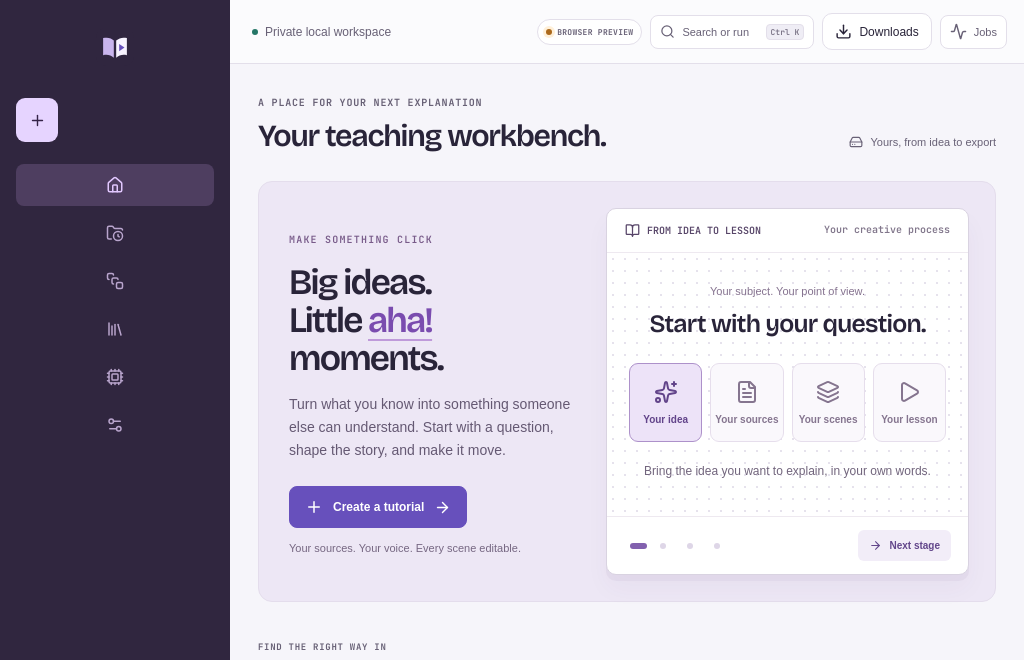
Test: keeps SDXL profile activation disabled for an activation-blocked receipt
Step 1. Click the button named "models & providers" → (115,377), box top-left (16, 356), bottom-right (214, 398)
(page scrolled)
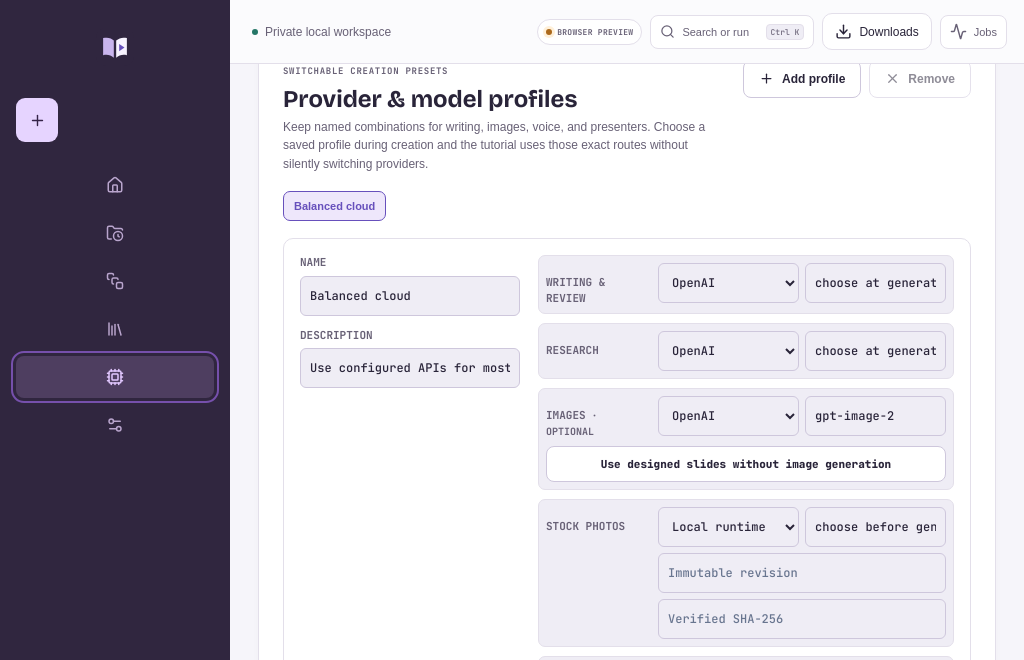
Now the field named "images model" does not hold "local/sdxl-base-1.0", box top-left (805, 396), bottom-right (946, 436)
